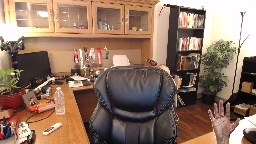Mano_aperta: (206, 97, 241, 139)
